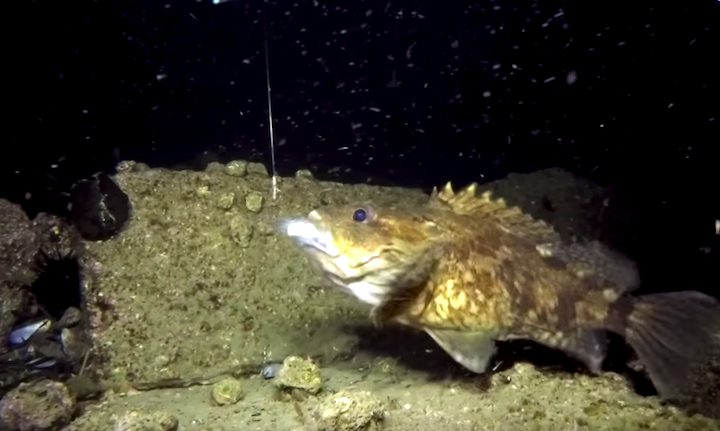kasago: (280, 178, 720, 403)
